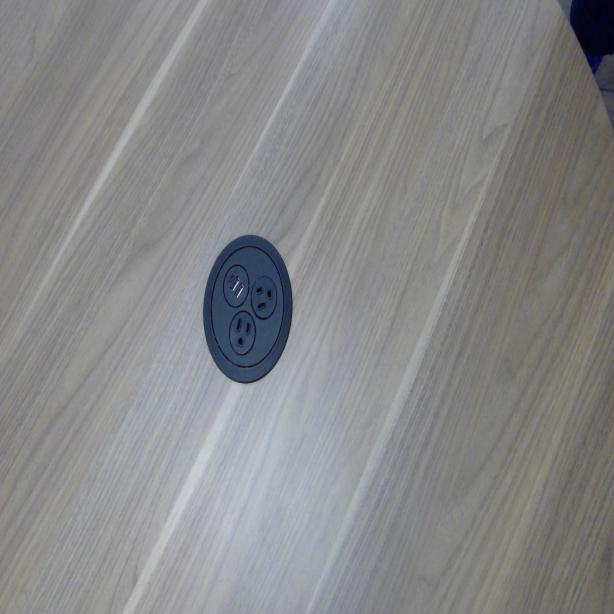typeb: (253, 280, 278, 318), (232, 314, 255, 354)
